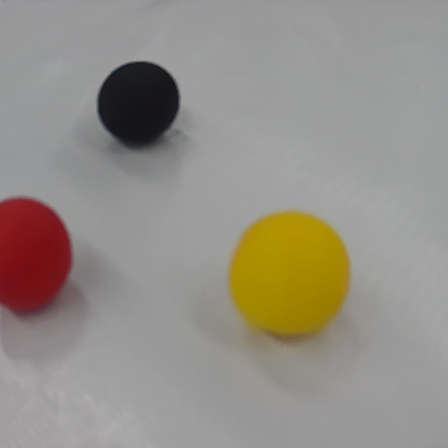black: (93, 56, 184, 148)
red: (1, 190, 74, 325)
yellow: (224, 209, 354, 342)
